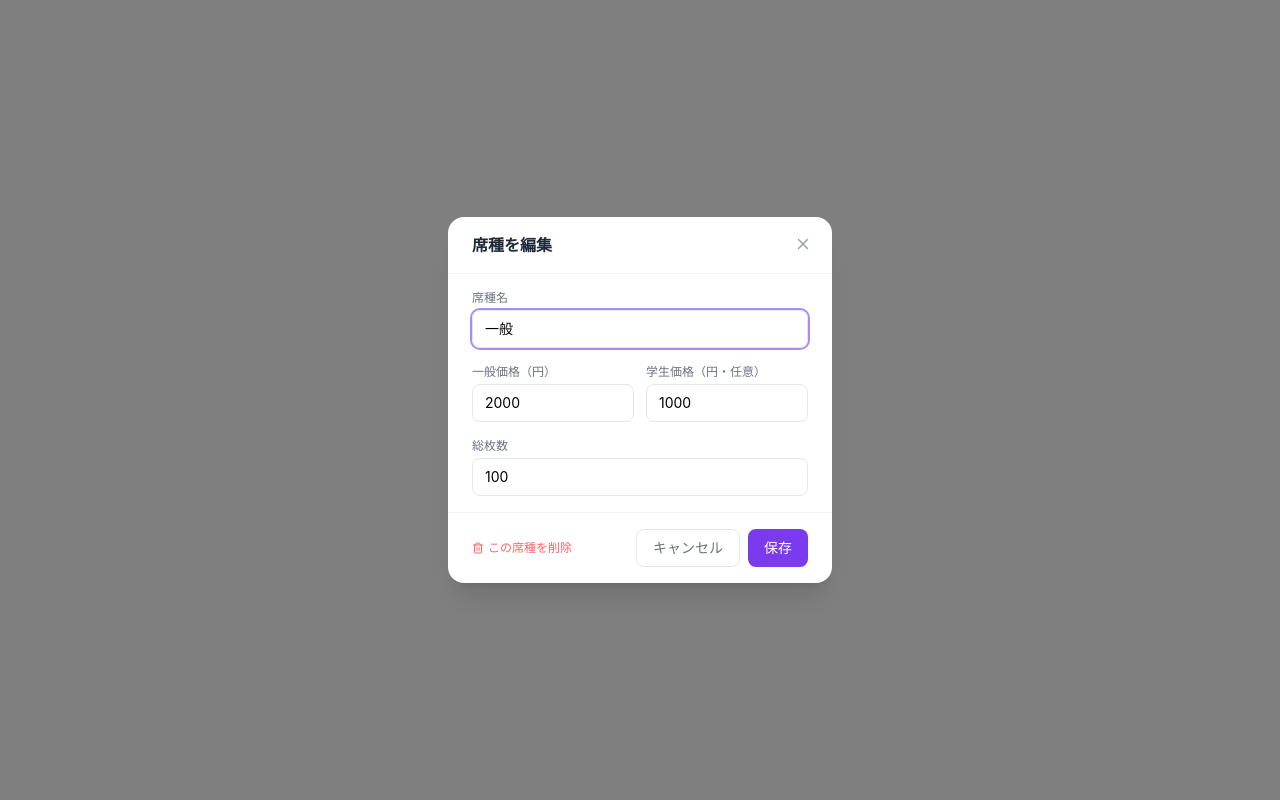
Test case: EditBatchModal › 削除の確認は編集の上に重ねて開き、Escでは確認だけが閉じる
The image size is (1280, 800).
Click the button "この席種を削除": (522, 548) [472,540,572,556]
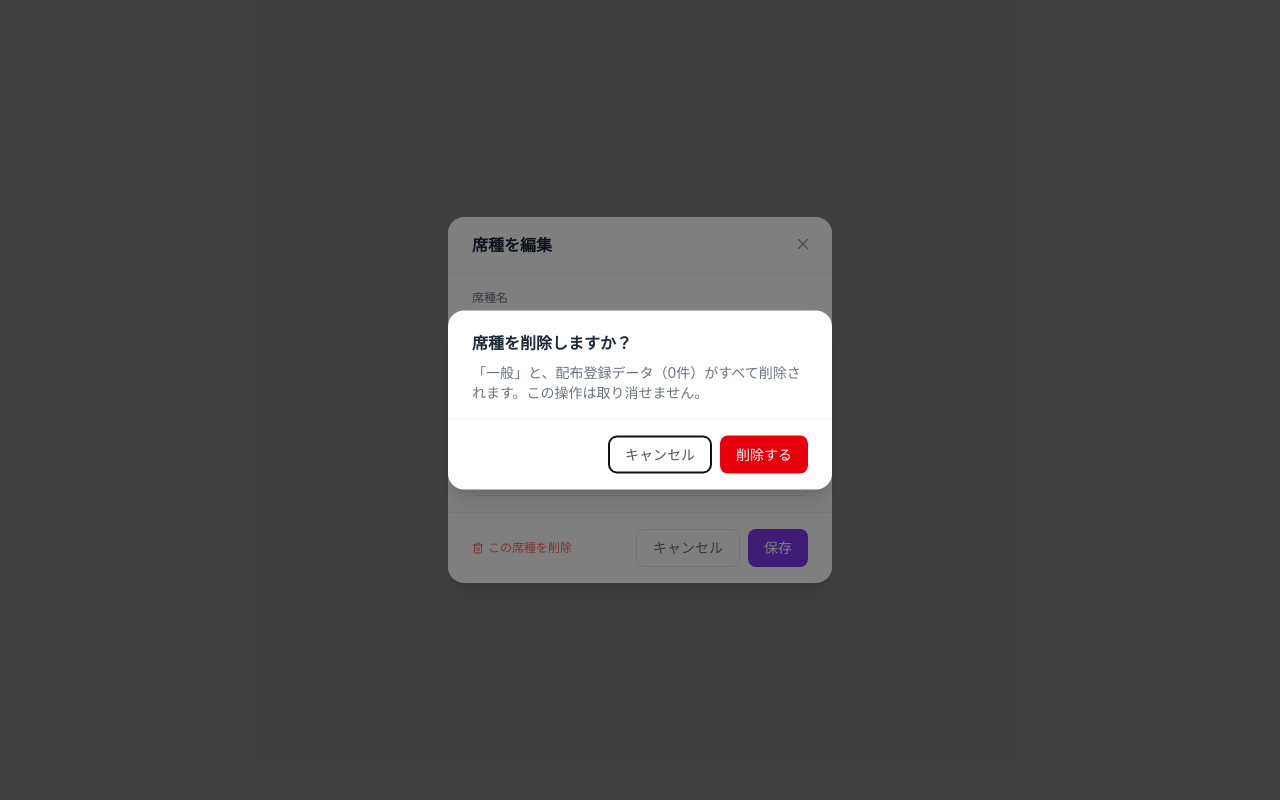
Now the dialog "席種を削除しますか？" is shown, box [448,310,832,490]
Press Escape
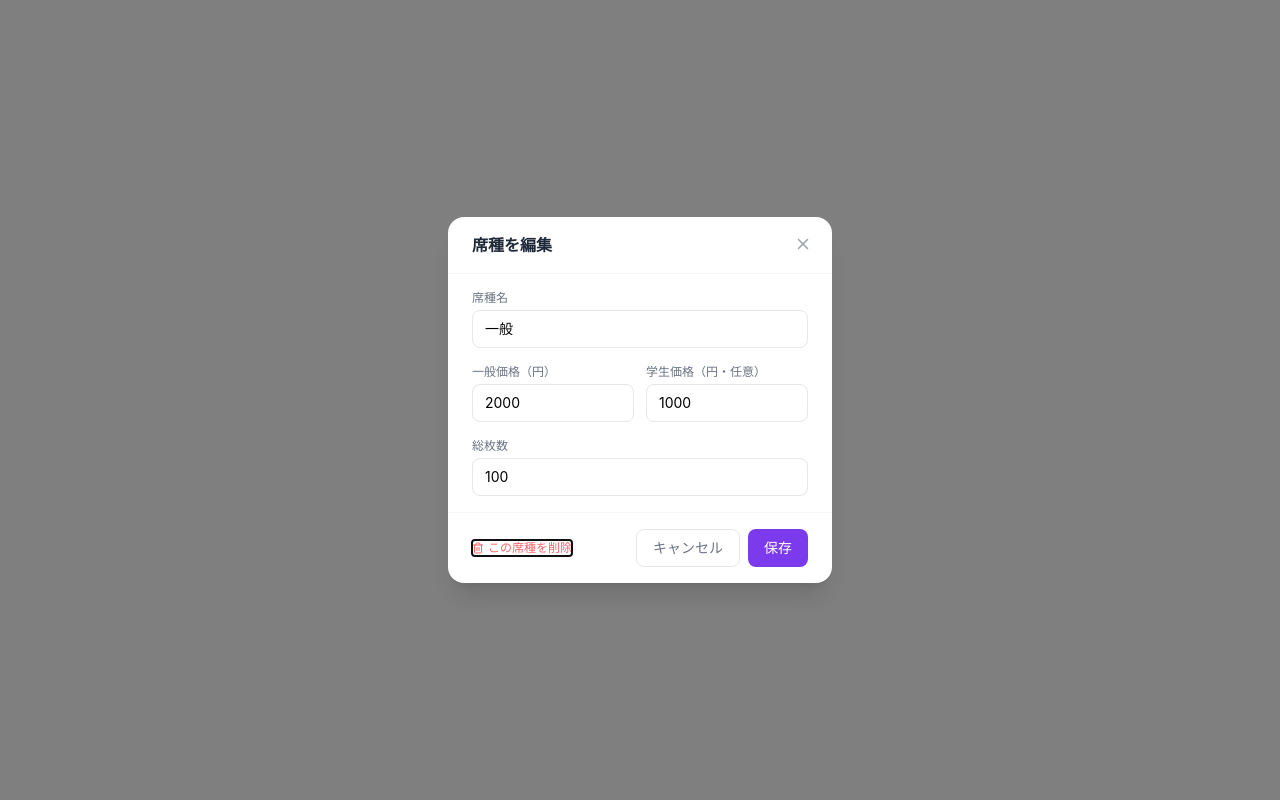
Expected: the dialog "席種を編集" is shown, [448,217,832,583]
Now the heading "席種を削除しますか？" is gone
